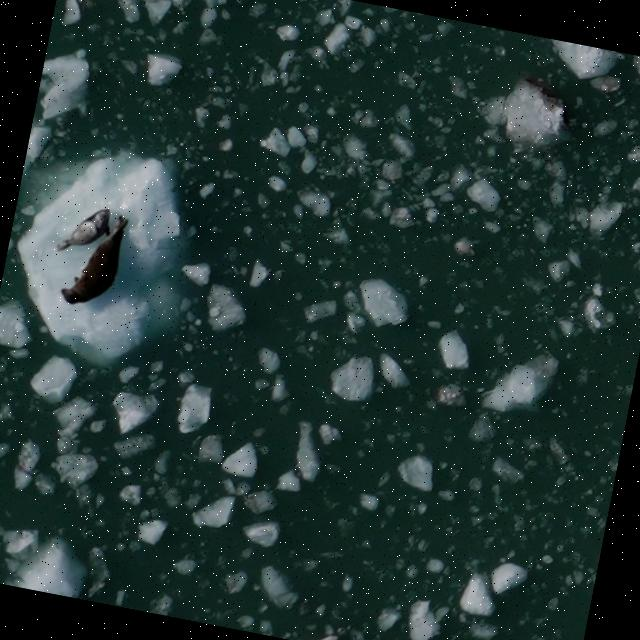seal: (53, 202, 133, 318), (50, 197, 117, 265)
